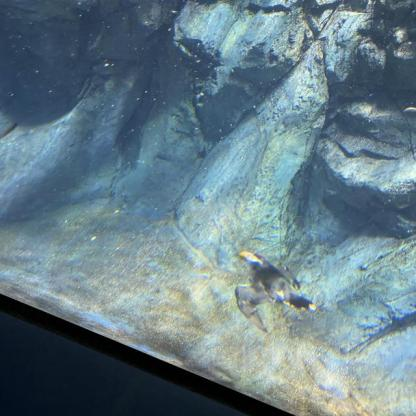puffin: (234, 251, 316, 333)
